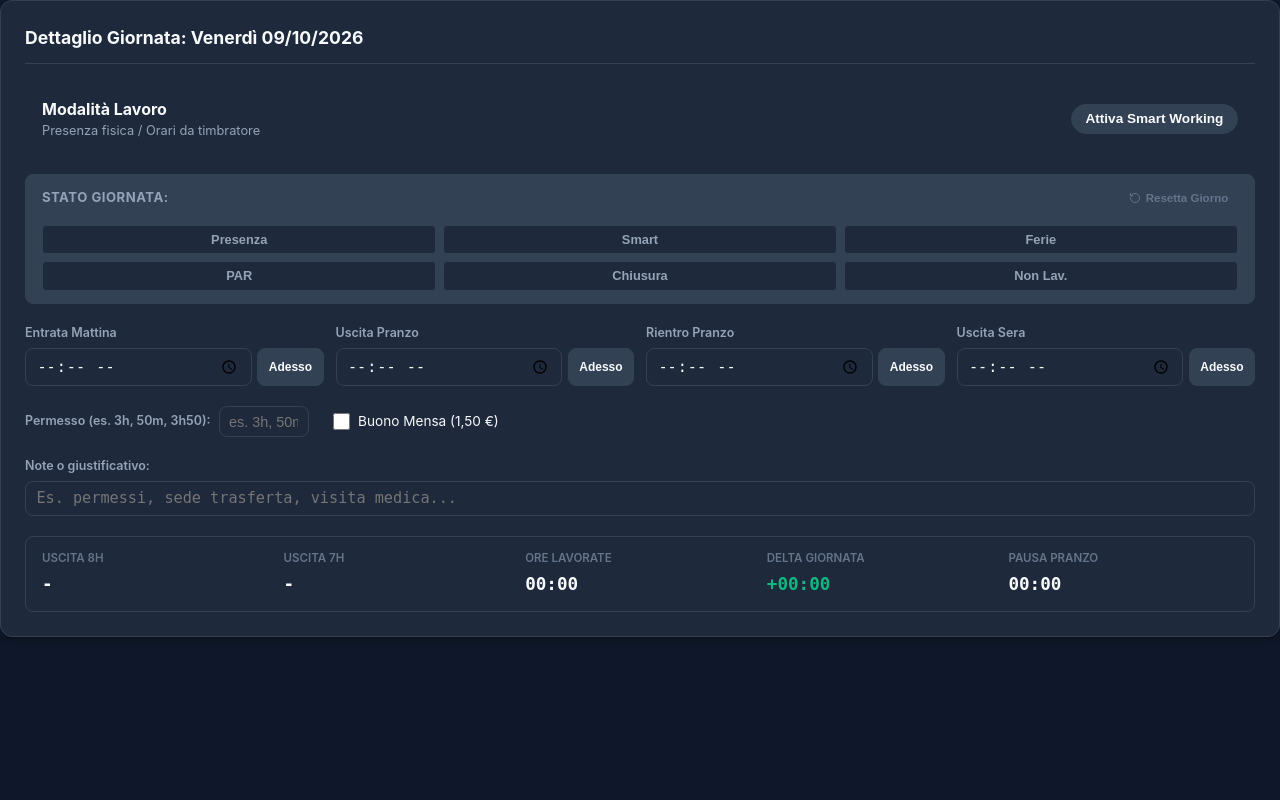
Test: DayDetailCard Feature › updates canteenUsed checkbox correctly
The width and height of the screenshot is (1280, 800).
Step 1. Click the checkbox with test id "checkbox-canteenUsed" → [341, 422], box [332,413,350,430]
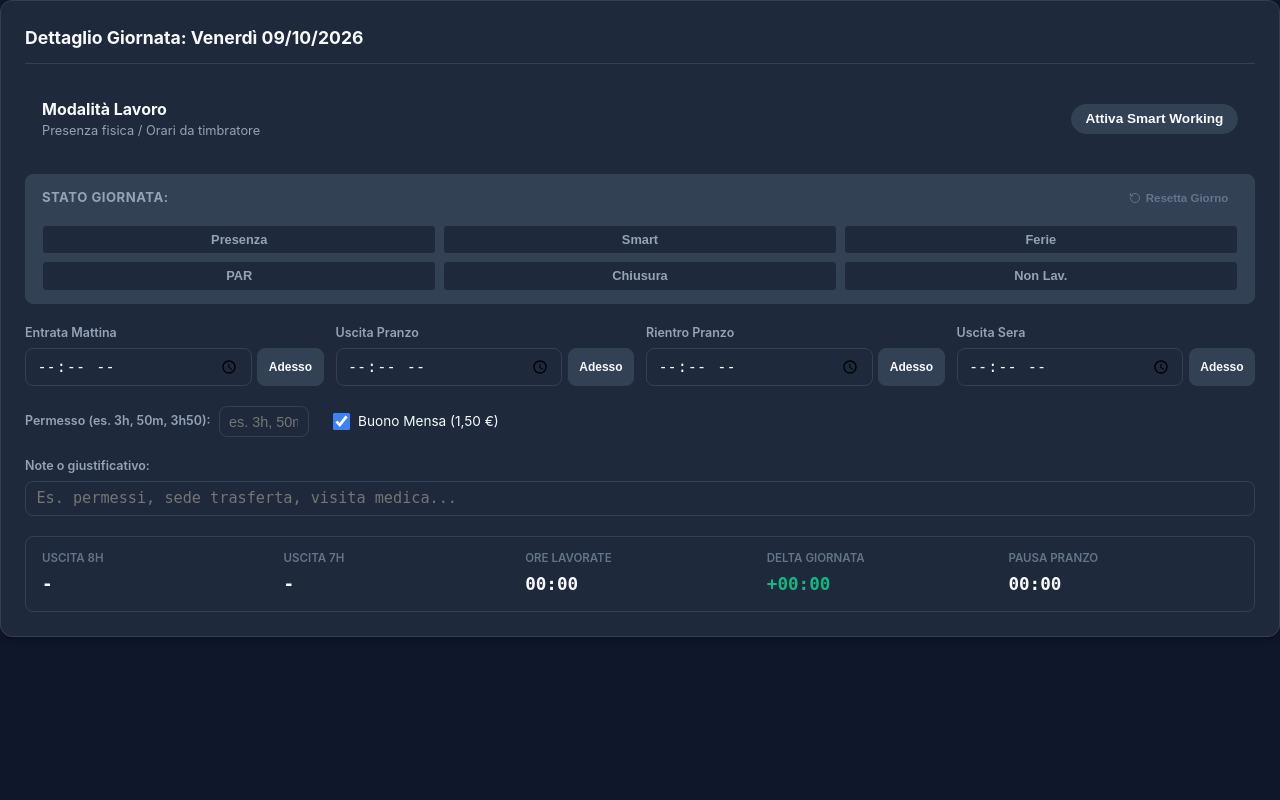
Check: the checkbox with test id "checkbox-canteenUsed" is checked, box [332,413,350,430]
